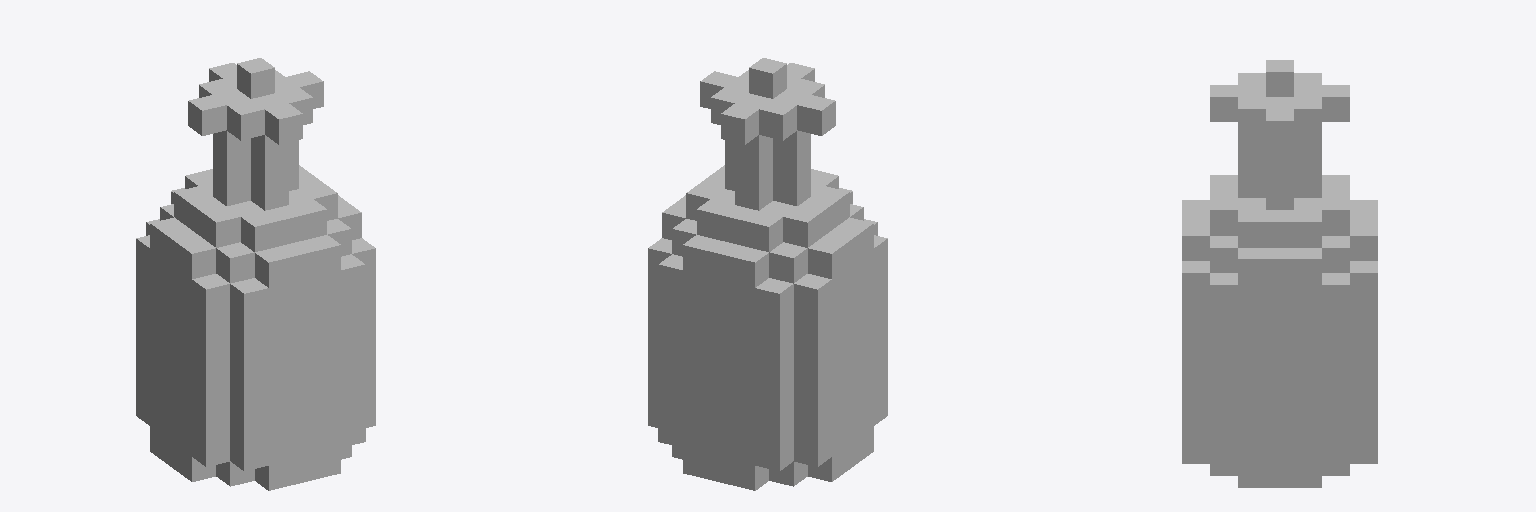
The model's file is Bottle.obj.
3 views of the same model, side by side, from view 1: azimuth 30°, elevation 25°; view 2: azimuth 150°, elevation 25°; view 3: azimuth 270°, elevation 25° (orthographic).
Parts seen in each view (by area): view 1: object 1; view 2: object 1; view 3: object 1.
Part boxes in pixels (x1,y1,x2,y2): object 1: (136, 58, 375, 490); object 1: (648, 58, 887, 490); object 1: (1182, 60, 1377, 487).
Bounding box in the file's own units: 0.7 × 1.5 × 0.7.